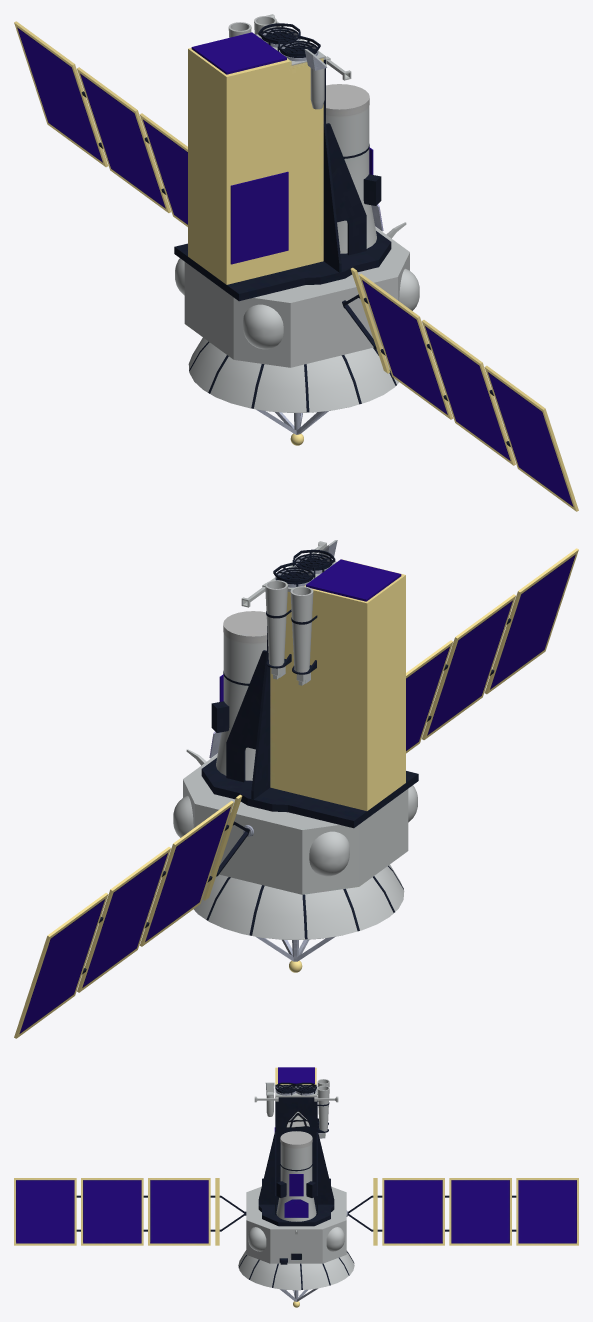
Rendered from satellite.glb.
3 renders of one model, top to bottom at view 1: azimuth 30°, elevation 25°; view 2: azimuth 150°, elevation 25°; view 3: azimuth 270°, elevation 25°, orthographic. The views are drawn at different scales.
Parts seen in each view (by area): view 1: Object_2, Object_3; view 2: Object_2, Object_3; view 3: Object_2, Object_3.
Part boxes in pixels (bbox=[...]): Object_2: bbox=[14, 14, 578, 511]; Object_3: bbox=[174, 33, 409, 367]; Object_2: bbox=[14, 540, 578, 1038]; Object_3: bbox=[183, 559, 418, 894]; Object_2: bbox=[14, 1067, 578, 1307]; Object_3: bbox=[246, 1067, 346, 1263].
Bounding box in the file's own units: 0.9 × 1.75 × 4.06.
2 materials, 2 textured.
